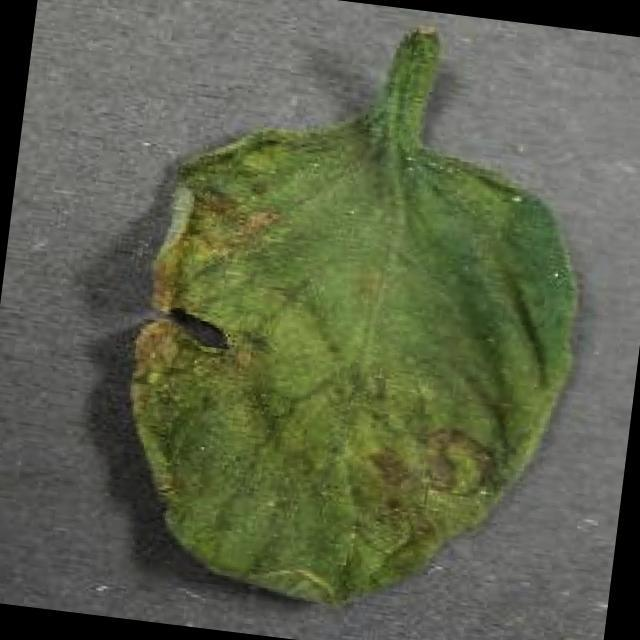Tomato bacterial spot leaf: (85, 53, 613, 640)
